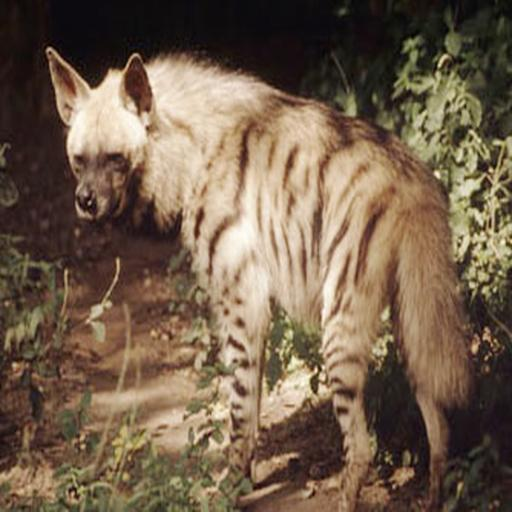Hyena: (38, 41, 474, 512)
